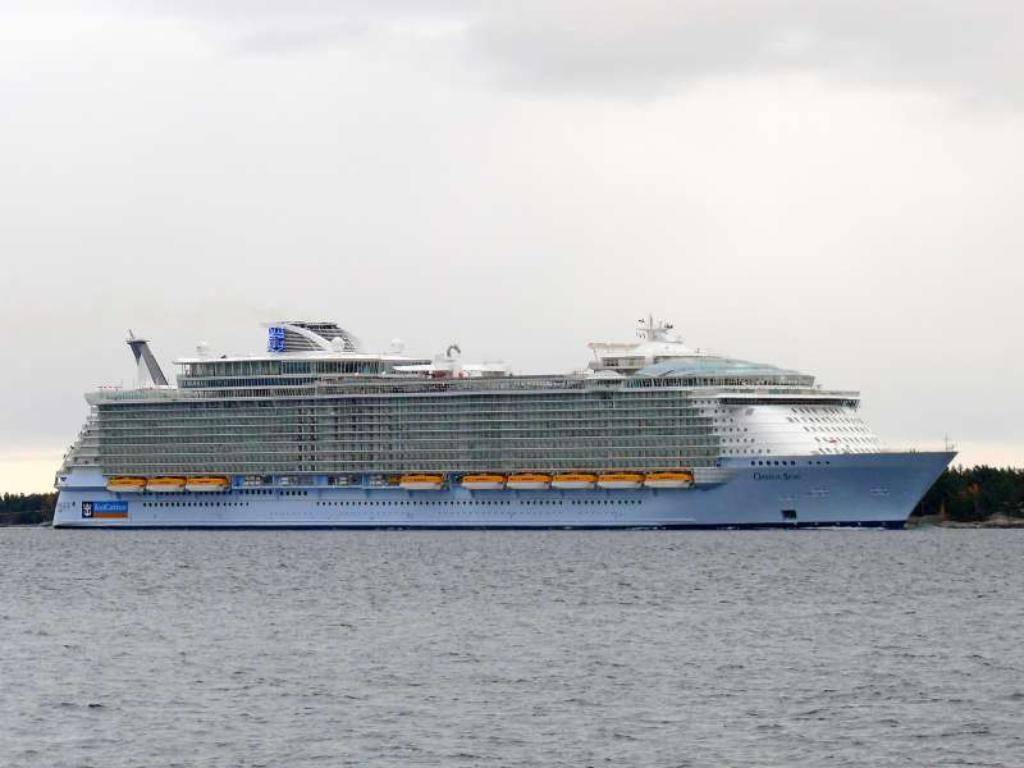PassengerShip: (40, 308, 972, 538)
